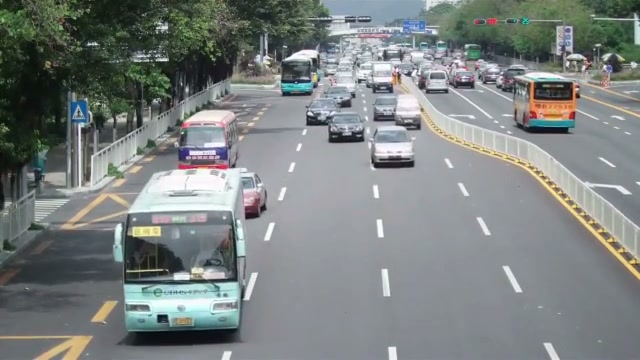bus: (113, 167, 248, 334), (512, 71, 580, 133), (177, 109, 240, 169), (281, 52, 316, 96)
car: (368, 125, 416, 168), (239, 172, 267, 218), (327, 112, 365, 143), (394, 94, 422, 130), (306, 98, 340, 125), (496, 65, 527, 91), (372, 94, 398, 121), (324, 86, 352, 108), (424, 71, 449, 94), (450, 70, 476, 88), (481, 65, 503, 83)
pedestrian: (600, 63, 611, 87)
truck: (366, 62, 393, 93)
